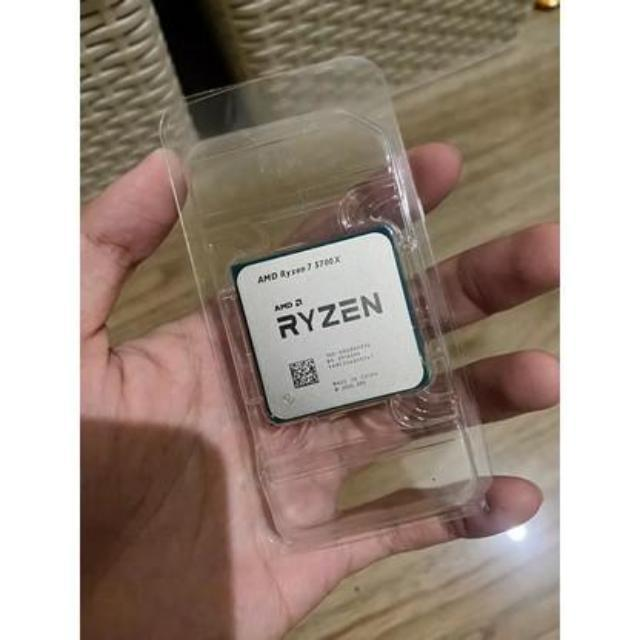CPU: (240, 232, 423, 418)
